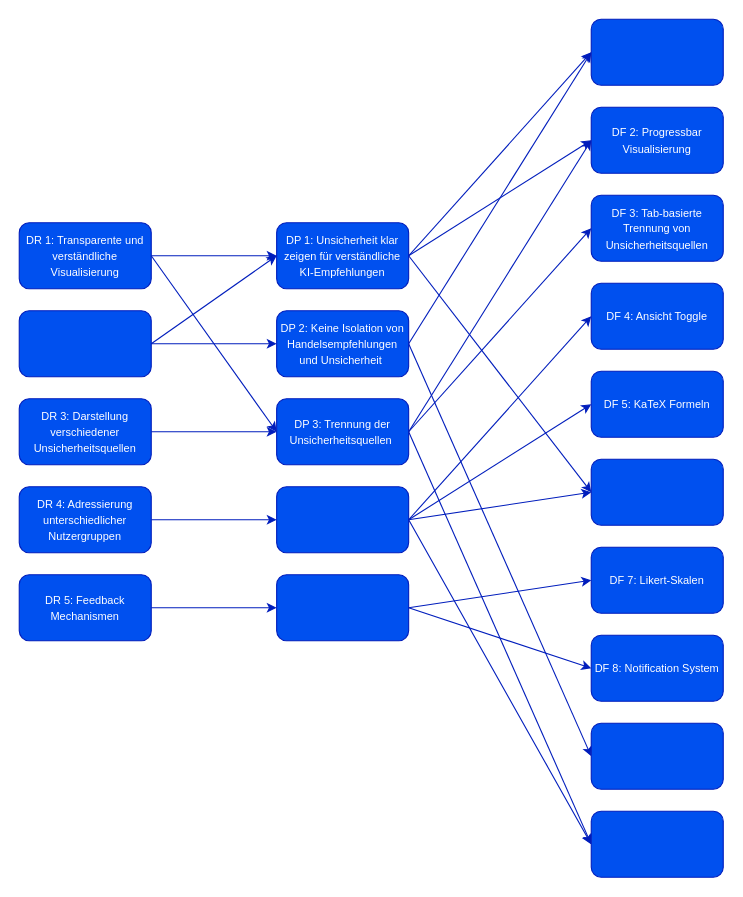
Some shapes in this 743 by 897 pixel diagram are drawn without their labels. The shapes that lost their labels are listed below. From the top down, each one's box as (x1, y1, x2, y2) in pixels, then its label:
(590, 18, 723, 85): DF 1: Farbkodierte Risiko Badges
(18, 310, 151, 377): DR 2: Verbindung zwischen Handelsempfehlung und Unsicherheitsniveau
(590, 458, 723, 525): DF 6: Tooltip System
(276, 486, 409, 553): DP 4: Technisch und Vereinfacht
(276, 574, 409, 641): DP 5: Möglichkeit für Feedback
(590, 722, 723, 789): DF 9: Trading-Buttons
(590, 810, 723, 877): DF 10: Parameter Aufschlüsselung
